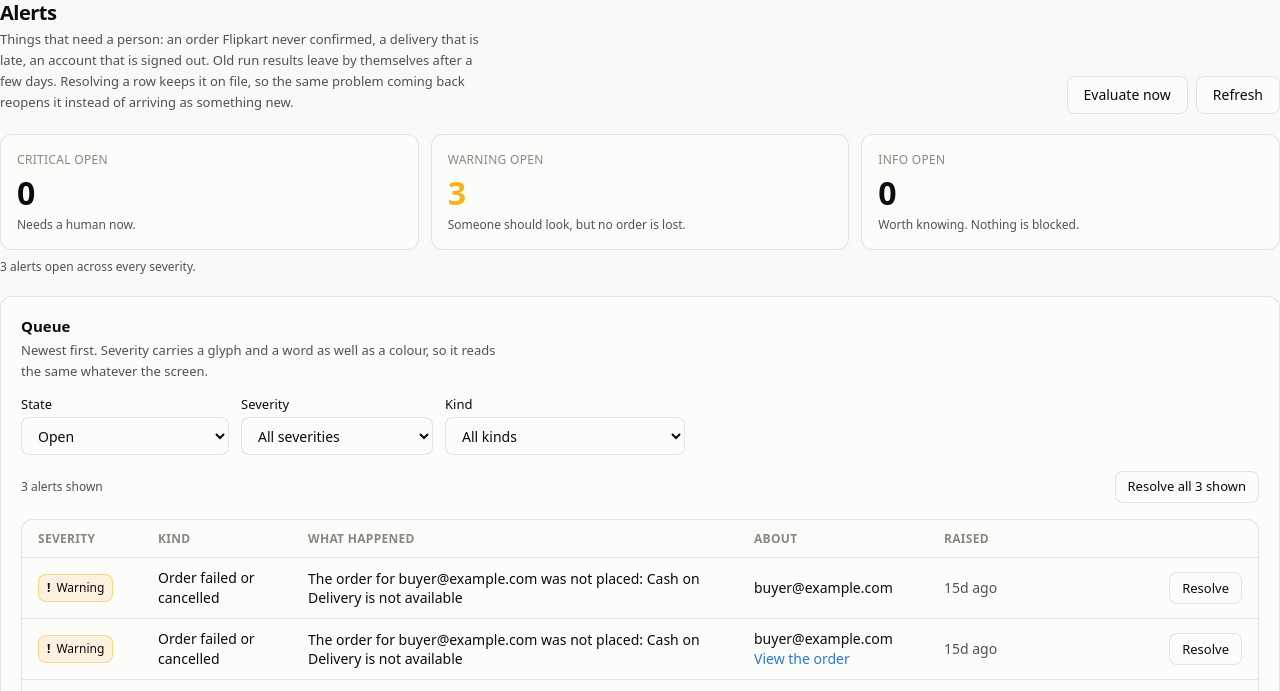
Test: Alerts page › closes every open alert on screen under one note
Click the button "Resolve all 3 shown".
click(1187, 487)  # box [1114,471,1259,503]
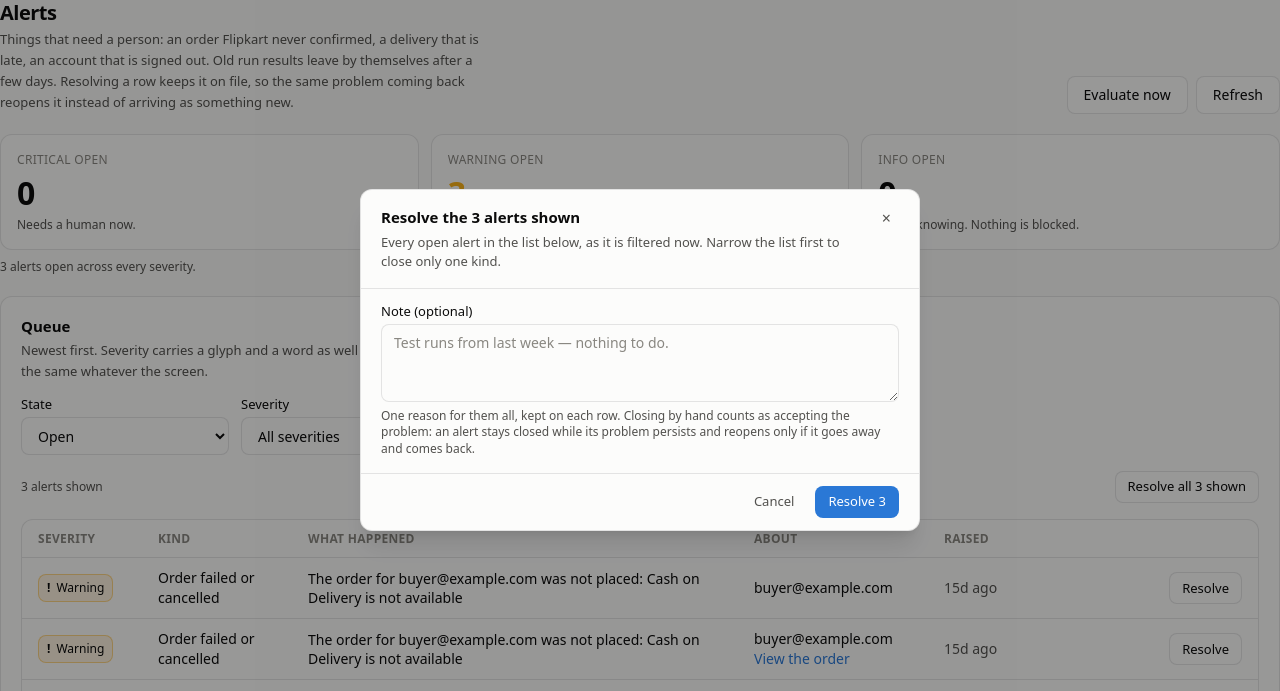
Type "test runs" into the text box labelled "Note (optional)".
click(640, 362); type("test runs")  # box [381,324,899,402]
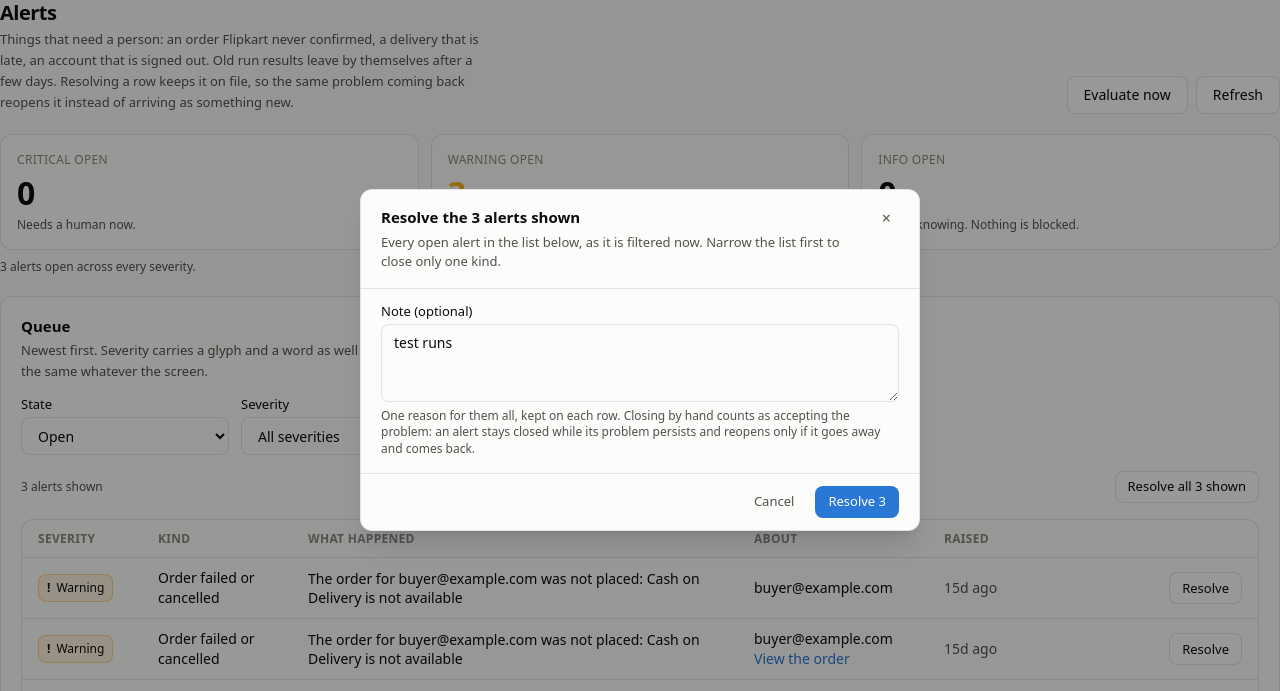
Click the button "Resolve 3".
click(857, 502)  # box [815,486,899,518]
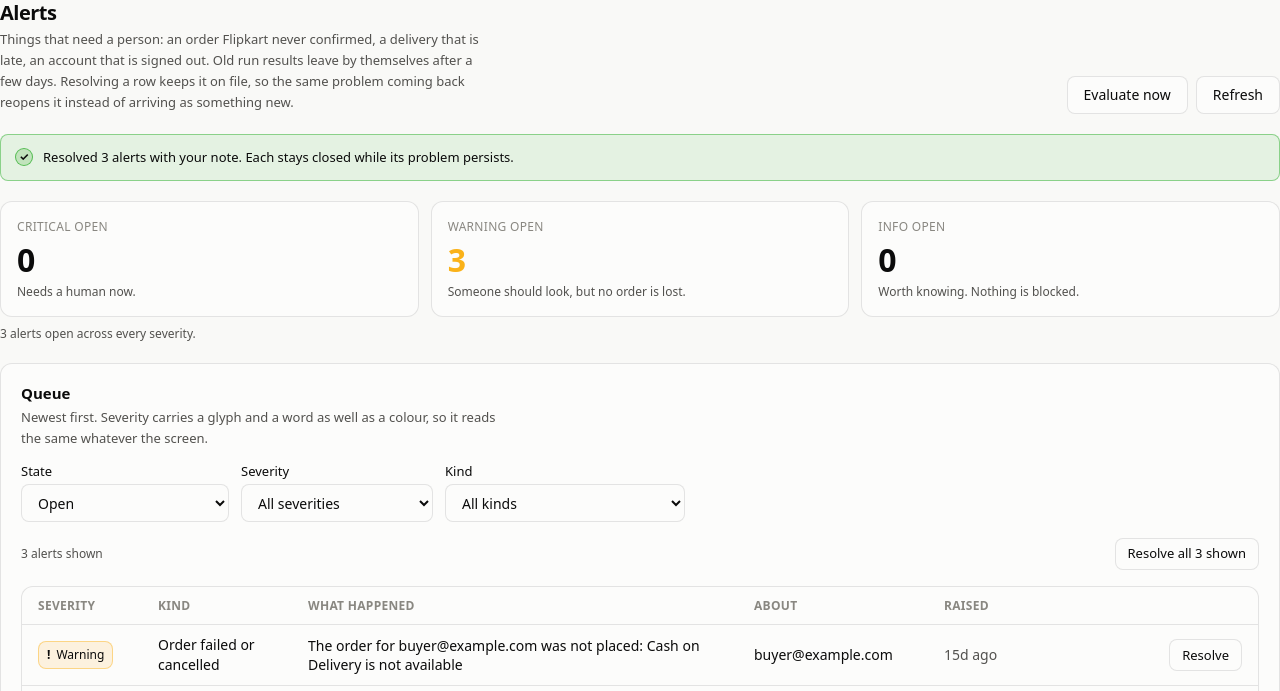
Result: the text "Resolved 3 alerts with your note" is shown at [43,148,514,166]
